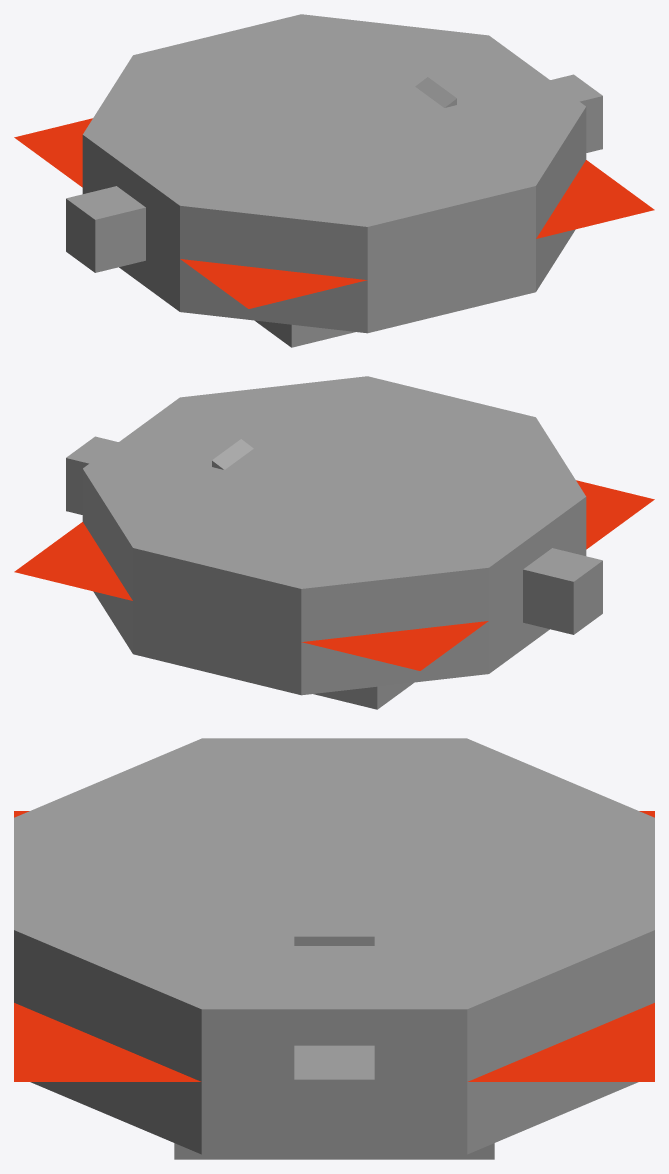
Rendered from DM-1on1-300k-lava-pit.obj.
3 views of the same model, one above another, from view 1: azimuth 30°, elevation 25°; view 2: azimuth 150°, elevation 25°; view 3: azimuth 270°, elevation 25° (orthographic). The views are drawn at different scales.
Parts seen in each view (by area): view 1: DM_1on1_300k_lava_pit; view 2: DM_1on1_300k_lava_pit; view 3: DM_1on1_300k_lava_pit.
Part boxes in pixels (left/top/right/bottom): DM_1on1_300k_lava_pit: left=14, top=14, right=654, bottom=347; DM_1on1_300k_lava_pit: left=14, top=376, right=654, bottom=709; DM_1on1_300k_lava_pit: left=14, top=738, right=654, bottom=1159.
Bounding box in the file's own units: 1280 × 400 × 1024.
